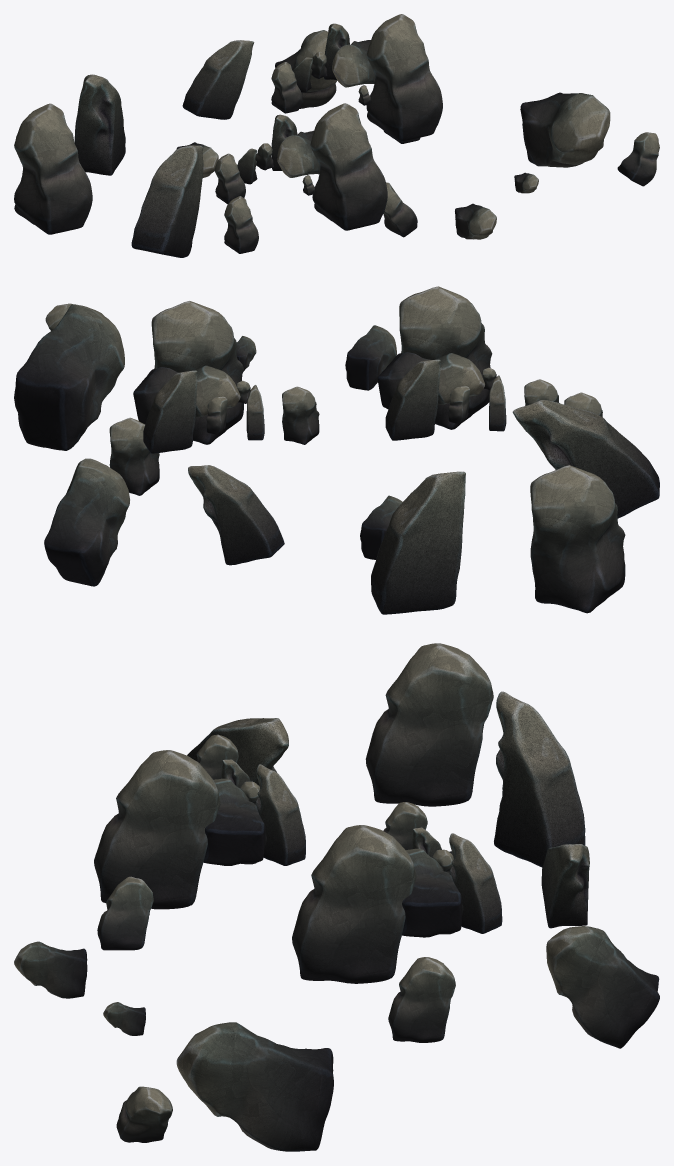
The model's file is Rocks (1).fbx.
The picture shows the model from 3 angles, top to bottom: view 1: azimuth 30°, elevation 25°; view 2: azimuth 150°, elevation 25°; view 3: azimuth 270°, elevation 25°; orthographic projection. The views are drawn at different scales.
Visible parts, largest first — view 1: DecorRocks_LowPoly_B__31_, DecorRocks_LowPoly_B__116_, DecorRocks_LowPoly_B__116__1, DecorRocks_LowPoly_C__36_, DecorRocks_LowPoly_B__36_, DecorRocks_LowPoly_C__34_, DecorRocks_LowPoly_C__35_, DecorRocks_LowPoly_B__28_, DecorRocks_LowPoly_B__115_, DecorRocks_LowPoly_B__33_, DecorRocks_LowPoly_B__115__1, DecorRocks_LowPoly_B__35_ (+11 smaller); view 2: DecorRocks_LowPoly_B__31_, DecorRocks_LowPoly_B__36_, DecorRocks_LowPoly_C__34_, DecorRocks_LowPoly_C__36_, DecorRocks_LowPoly_B__28_, DecorRocks_LowPoly_B__116__1, DecorRocks_LowPoly_B__116_, DecorRocks_LowPoly_C__35_, DecorRocks_LowPoly_C__18_, DecorRocks_LowPoly_C__18__1, DecorRocks_LowPoly_B__115__1, DecorRocks_LowPoly_B__27_ (+11 smaller); view 3: DecorRocks_LowPoly_B__31_, DecorRocks_LowPoly_B__116_, DecorRocks_LowPoly_B__36_, DecorRocks_LowPoly_B__116__1, DecorRocks_LowPoly_C__34_, DecorRocks_LowPoly_B__28_, DecorRocks_LowPoly_B__27_, DecorRocks_LowPoly_B__115__1, DecorRocks_LowPoly_B__115_, DecorRocks_LowPoly_C__35_, DecorRocks_LowPoly_C__18__1, DecorRocks_LowPoly_C__18_ (+7 smaller).
Boxes of the visible parts, x1,y1,x2,y2 form: DecorRocks_LowPoly_B__31_: (14,103,92,234); DecorRocks_LowPoly_B__116_: (366,14,442,141); DecorRocks_LowPoly_B__116__1: (310,103,387,230); DecorRocks_LowPoly_C__36_: (131,145,203,257); DecorRocks_LowPoly_B__36_: (520,92,610,167); DecorRocks_LowPoly_C__34_: (74,74,125,175); DecorRocks_LowPoly_C__35_: (182,40,254,119); DecorRocks_LowPoly_B__28_: (275,30,337,108); DecorRocks_LowPoly_B__115_: (332,40,375,87); DecorRocks_LowPoly_B__33_: (224,196,258,253); DecorRocks_LowPoly_B__115__1: (277,130,319,177); DecorRocks_LowPoly_B__35_: (617,132,659,186); DecorRocks_LowPoly_B__31_: (530,465,625,613); DecorRocks_LowPoly_B__36_: (14,304,124,450); DecorRocks_LowPoly_C__34_: (371,471,465,614); DecorRocks_LowPoly_C__36_: (512,400,659,518); DecorRocks_LowPoly_B__28_: (44,458,129,586); DecorRocks_LowPoly_B__116__1: (399,286,492,429); DecorRocks_LowPoly_B__116_: (151,301,243,444); DecorRocks_LowPoly_C__35_: (188,465,284,565); DecorRocks_LowPoly_C__18_: (143,370,197,453); DecorRocks_LowPoly_C__18__1: (385,359,440,440); DecorRocks_LowPoly_B__115__1: (377,352,484,409); DecorRocks_LowPoly_B__27_: (109,417,159,495); DecorRocks_LowPoly_B__31_: (365,643,493,806); DecorRocks_LowPoly_B__116_: (292,825,416,983); DecorRocks_LowPoly_B__36_: (176,1022,333,1151); DecorRocks_LowPoly_B__116__1: (94,750,220,909); DecorRocks_LowPoly_C__34_: (494,691,585,867); DecorRocks_LowPoly_B__28_: (546,926,659,1048); DecorRocks_LowPoly_B__27_: (388,957,455,1042); DecorRocks_LowPoly_B__115__1: (203,778,266,865); DecorRocks_LowPoly_B__115_: (402,848,463,937); DecorRocks_LowPoly_C__35_: (541,844,589,928); DecorRocks_LowPoly_C__18__1: (255,764,305,865); DecorRocks_LowPoly_C__18_: (449,833,502,933).
Bounding box in the file's own units: 205 × 57.89 × 150.
Materials: 3 (3 with a texture image).
